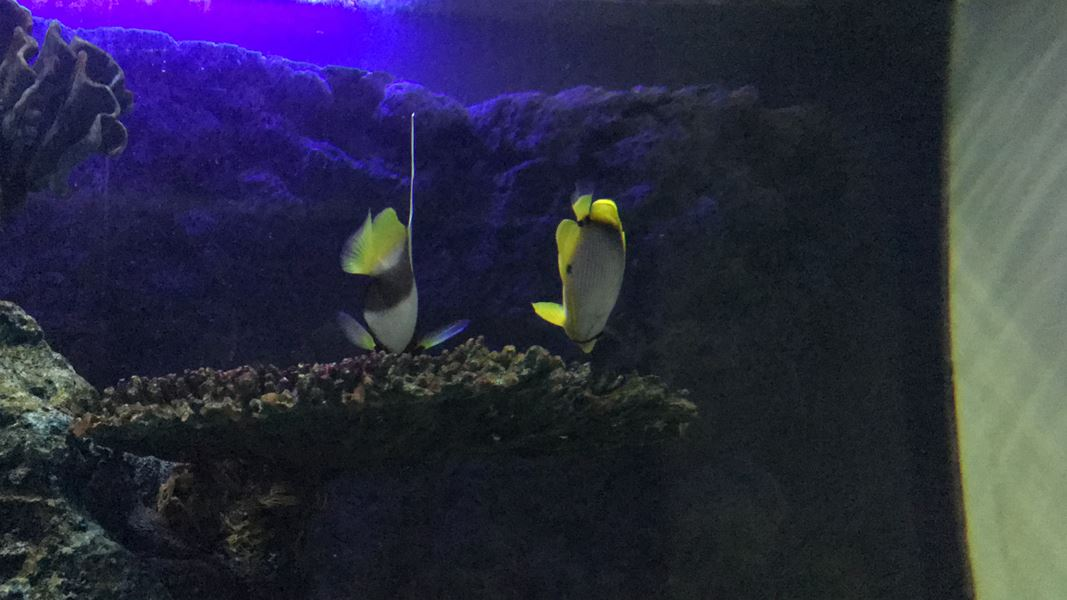Black-backed butterflyfish: (523, 167, 649, 367)
